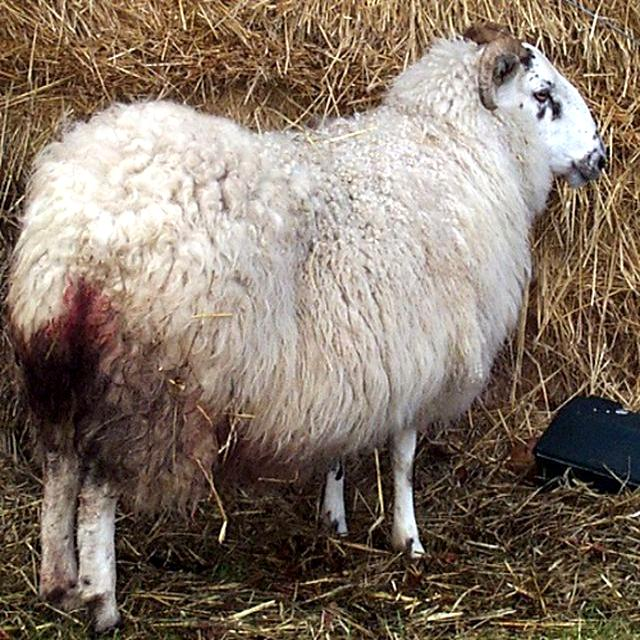sheep: (7, 19, 604, 633)
